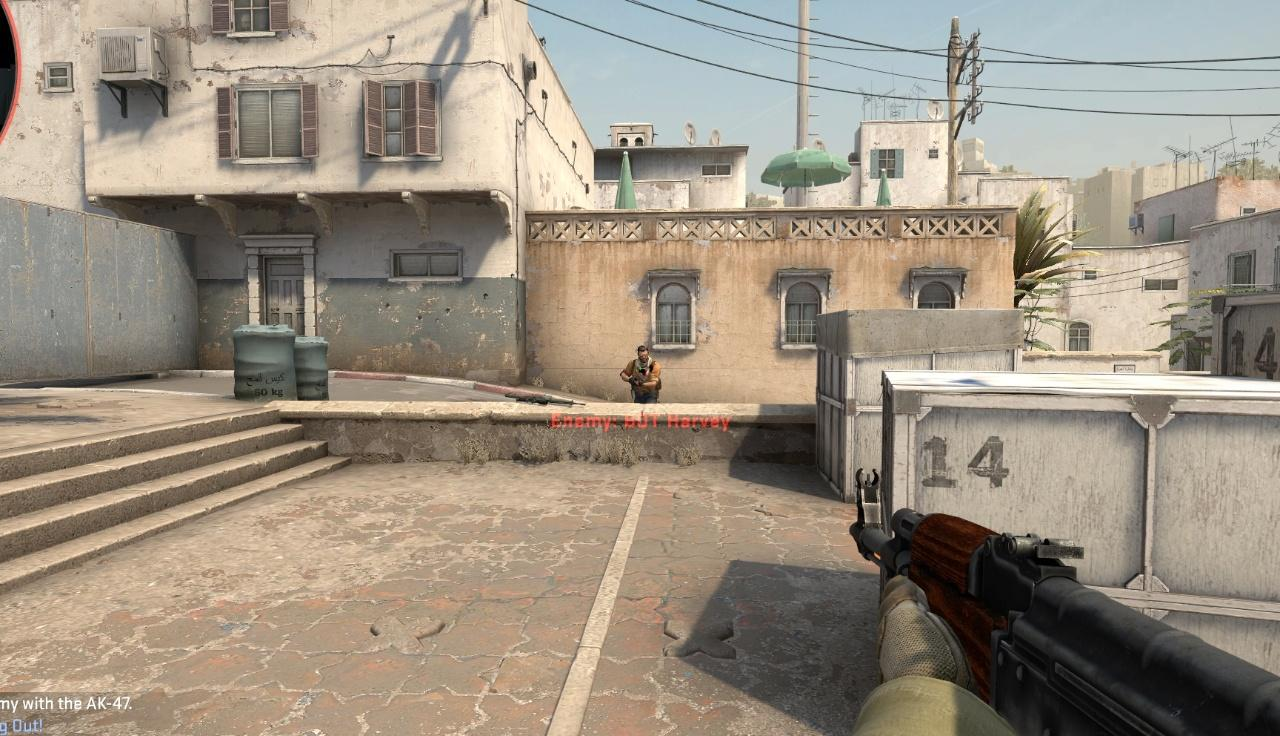rifle: (851, 468, 1280, 736)
tt: (620, 345, 661, 404)
tthead: (637, 345, 649, 363)
